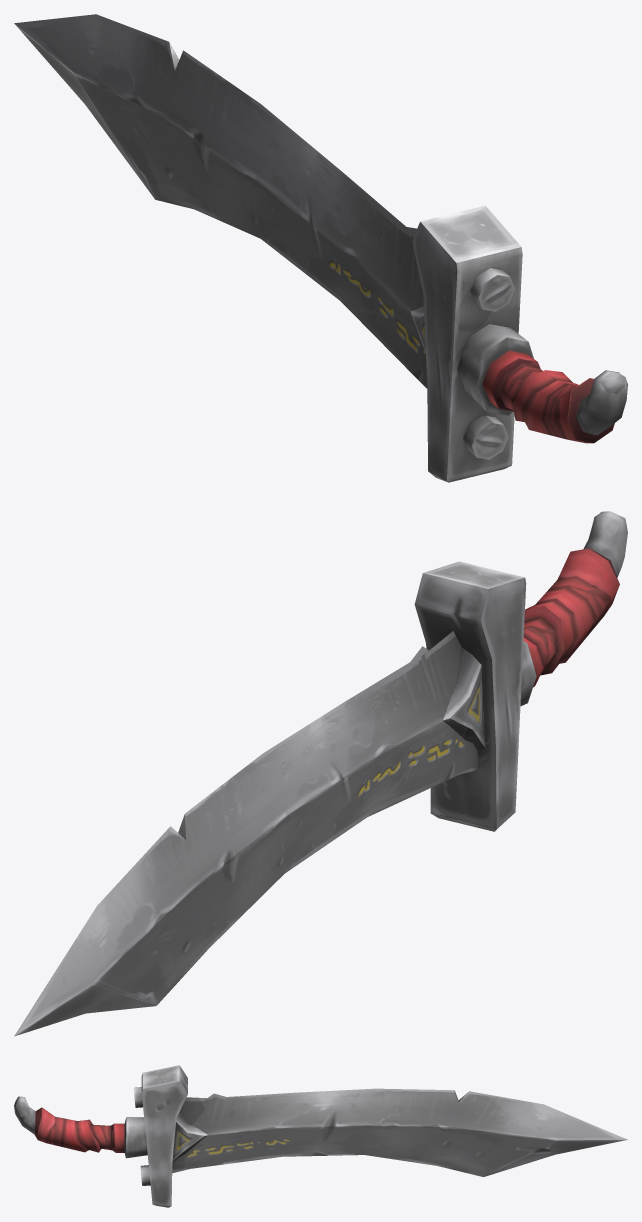
Rendered from lowpoly_stylized_scimitar.glb.
The picture shows the model from 3 angles, top to bottom: view 1: azimuth 30°, elevation 25°; view 2: azimuth 150°, elevation 25°; view 3: azimuth 270°, elevation 25°; orthographic projection. The views are drawn at different scales.
Parts seen in each view (by area): view 1: Object001_Object001_mtl_0; view 2: Object001_Object001_mtl_0; view 3: Object001_Object001_mtl_0.
Boxes of the visible parts, <box> form: Object001_Object001_mtl_0: <box>14,14,627,482</box>; Object001_Object001_mtl_0: <box>14,511,627,1036</box>; Object001_Object001_mtl_0: <box>14,1065,627,1207</box>.
Bounding box in the file's own units: 3.57 × 13.03 × 56.81.
1 material, 1 textured.
